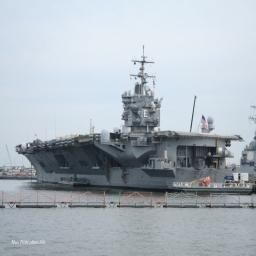Portanaves: (11, 38, 246, 188)
